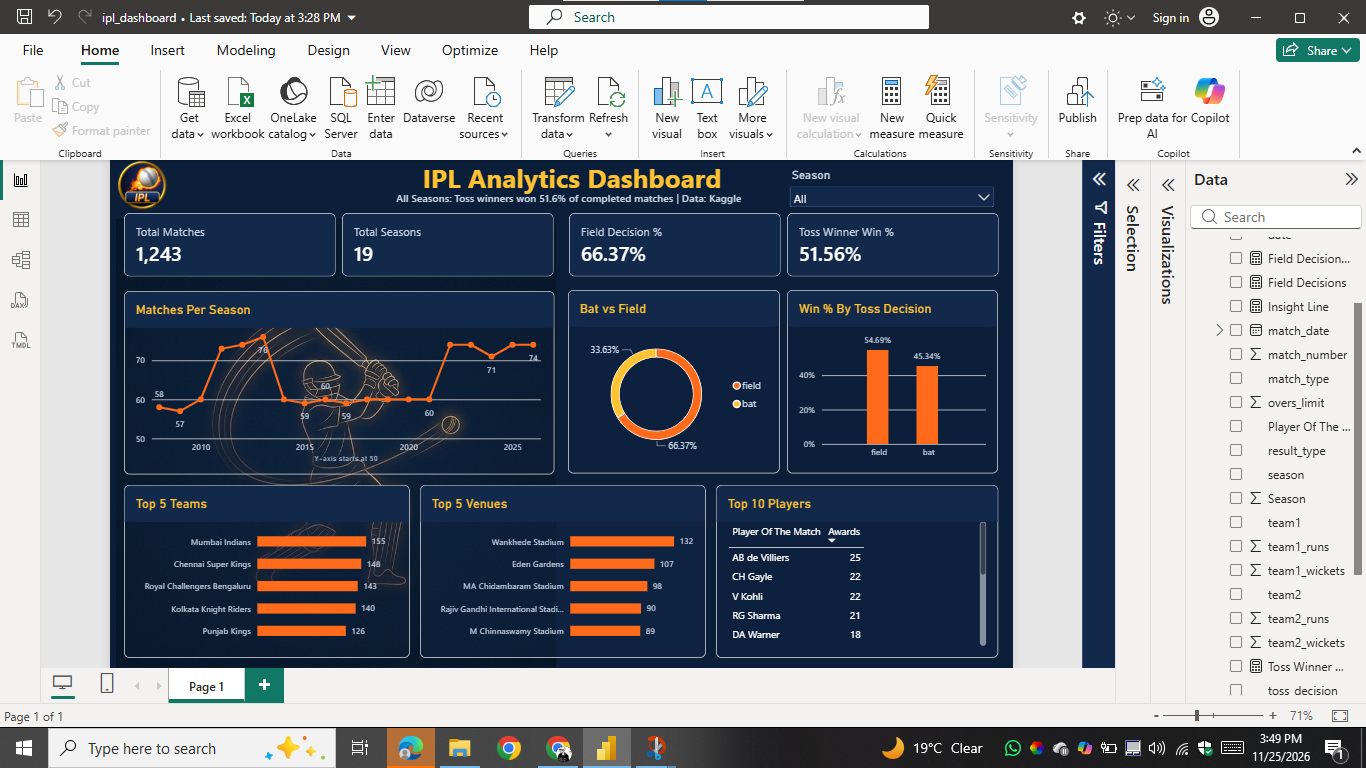

What the dashboard file says about the page in this screenshot:
{"tool":"powerbi","page":{"name":"Page 1","canvas":[1280,720],"ordinal":0},"visuals":[{"type":"image","box":[8.6,82.9,623.6,636.4],"z":0},{"type":"cardVisual","fields":{"Data":["ipl_matches_clean.Total Matches"]},"box":[19.8,75,300,90],"z":1000},{"type":"clusteredBarChart","title":"Top 5 Teams","fields":{"Category":["ipl_matches_clean.winner"],"Y":["CountNonNull(ipl_matches_clean.winner)"]},"box":[20,460,405,245],"z":2000},{"type":"lineChart","title":"Matches Per Season","fields":{"Category":["ipl_matches_clean.season_year"],"Y":["CountNonNull(ipl_matches_clean.date)"]},"box":[20,185,610,260],"z":3000},{"type":"donutChart","title":"Bat vs Field","fields":{"Category":["ipl_matches_clean.toss_decision"],"Y":["CountNonNull(ipl_matches_clean.date)"]},"box":[649.3,184.5,300.3,260.3],"z":4000},{"type":"clusteredBarChart","title":"Top 5 Venues","fields":{"Category":["ipl_matches_clean.venue_clean"],"Y":["CountNonNull(ipl_matches_clean.date)"]},"box":[440,461,405,245],"z":5000},{"type":"tableEx","title":"Top 10 Players","fields":{"Values":["ipl_matches_clean.player_of_match","ipl_matches_clean.date"]},"box":[859.5,460.5,400,245],"z":6000},{"type":"slicer","fields":{"Values":["ipl_matches_clean.season_year"]},"box":[958.7,12,300,55],"z":7000},{"type":"cardVisual","fields":{"Data":["ipl_matches_clean.Field Decision %"]},"box":[650,75,300,90],"z":8000},{"type":"cardVisual","fields":{"Data":["ipl_matches_clean.Total Seasons"]},"box":[328.8,75,300,90],"z":9000},{"type":"textbox","box":[439.4,0,464.9,51],"z":10000},{"type":"cardVisual","fields":{"Data":["ipl_matches_clean.Toss Winner Win %"]},"box":[960,75,300,90],"z":13000},{"type":"clusteredColumnChart","title":"Win % By Toss Decision","fields":{"Category":["ipl_matches_clean.toss_decision"],"Y":["ipl_matches_clean.Toss Winner Win %"]},"box":[959.6,184.5,298.9,260.3],"z":14000},{"type":"image","box":[10,0,72,72],"z":14001},{"type":"cardVisual","fields":{"Data":["ipl_matches_clean.Insight Line"]},"box":[389.8,39.7,560,28],"z":14002}]}

Visuals, with their boxes on the page's 1280x720 design canvas (x1, y1, x2, y2). These are canvas units, not pixel positions in the 1366x768 screenshot, which may show the page scaled, cropped or inside an application window:
image: 9:83:632:719
cardVisual - ipl_matches_clean.Total Matches: 20:75:320:165
"Top 5 Teams" clusteredBarChart: 20:460:425:705
"Matches Per Season" lineChart: 20:185:630:445
"Bat vs Field" donutChart: 649:184:950:445
"Top 5 Venues" clusteredBarChart: 440:461:845:706
"Top 10 Players" tableEx: 860:460:1260:706
slicer - ipl_matches_clean.season_year: 959:12:1259:67
cardVisual - ipl_matches_clean.Field Decision %: 650:75:950:165
cardVisual - ipl_matches_clean.Total Seasons: 329:75:629:165
textbox: 439:0:904:51
cardVisual - ipl_matches_clean.Toss Winner Win %: 960:75:1260:165
"Win % By Toss Decision" clusteredColumnChart: 960:184:1258:445
image: 10:0:82:72
cardVisual - ipl_matches_clean.Insight Line: 390:40:950:68
